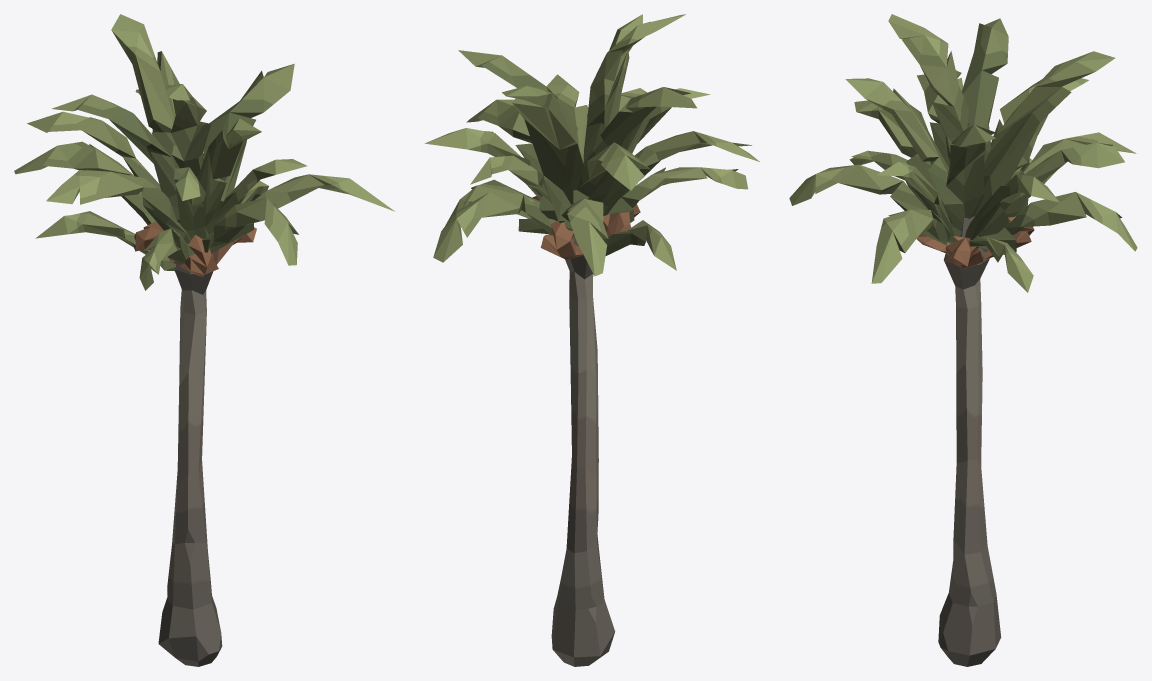
File: SM_Env_Tree_Big_02.glb
3 renders of one model, left to right at view 1: azimuth 30°, elevation 25°; view 2: azimuth 150°, elevation 25°; view 3: azimuth 270°, elevation 25°, orthographic. The views are drawn at different scales.
Visible parts, largest first — view 1: SM_Env_Tree_Big_02; view 2: SM_Env_Tree_Big_02; view 3: SM_Env_Tree_Big_02.
Boxes of the visible parts, x1=… form: SM_Env_Tree_Big_02: x1=14, y1=14, x2=394, y2=666; SM_Env_Tree_Big_02: x1=424, y1=14, x2=759, y2=666; SM_Env_Tree_Big_02: x1=789, y1=14, x2=1137, y2=666.
Size of the model in its own units: 5.62 by 10.43 by 5.33.
Materials: 1 (1 with a texture image).
